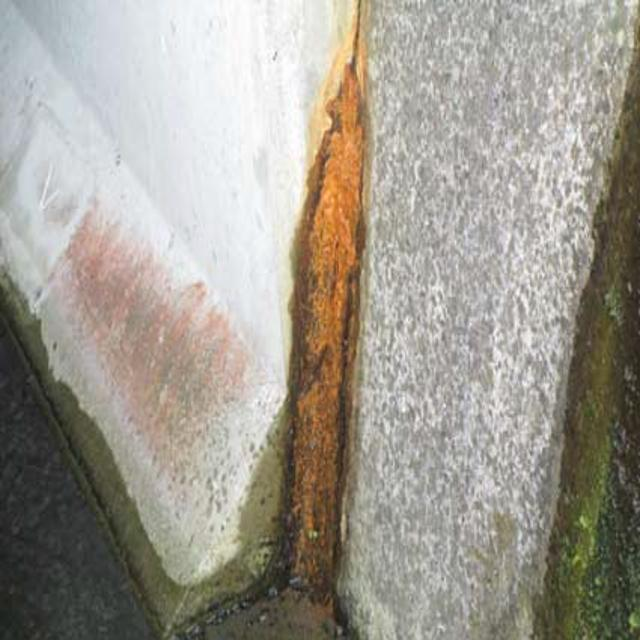leakage: (273, 86, 376, 608)
